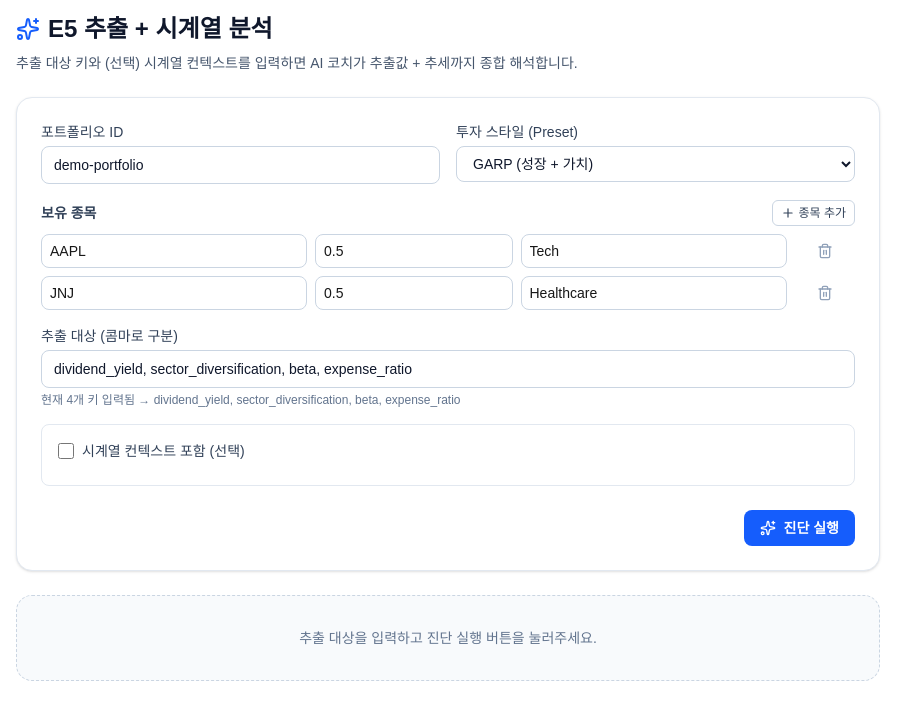
Test: E5 coach page (E5CoachContent) › time_series_context 토글 on + current 미입력 → submit disabled + role=alert 에러
This screenshot has width=897, height=701.
// 토글 on (current 비어있는 상태)
Click the checkbox labelled "시계열 컨텍스트 포함 (선택)".
click(66, 451)  # box [58,443,74,459]
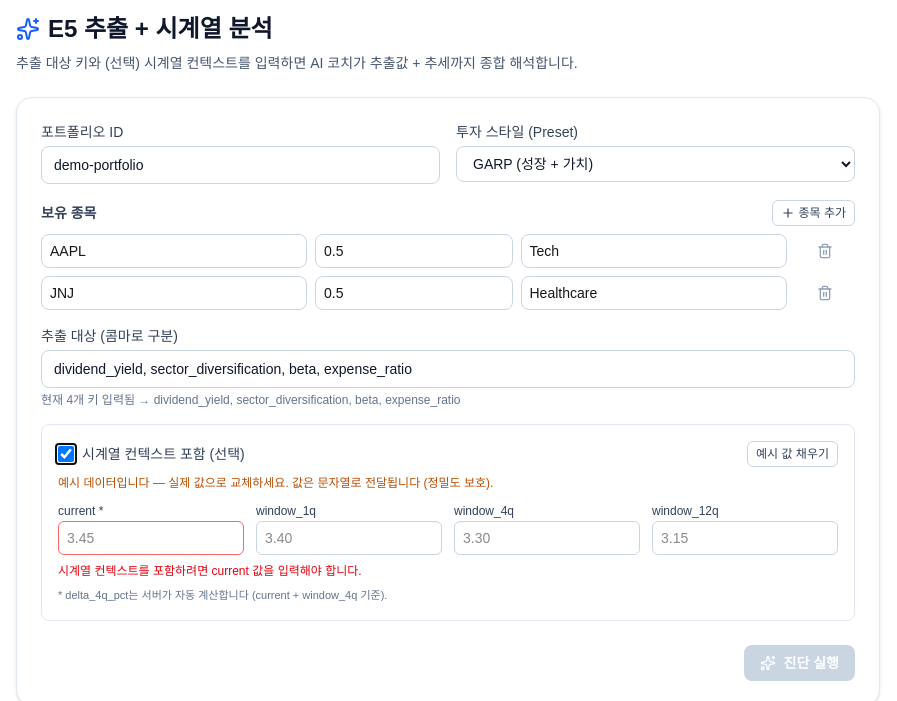
Result: the button "진단 실행" is disabled at [744,644,855,680]
Result: the message reads "시계열 컨텍스트를 포함하려면 current 값을 입력해야 합니다." at [58,564,362,578]
